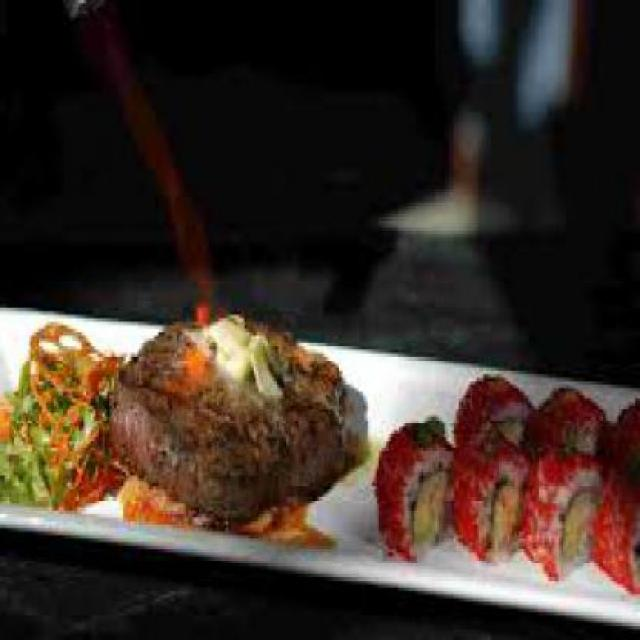steak: (114, 293, 363, 518)
